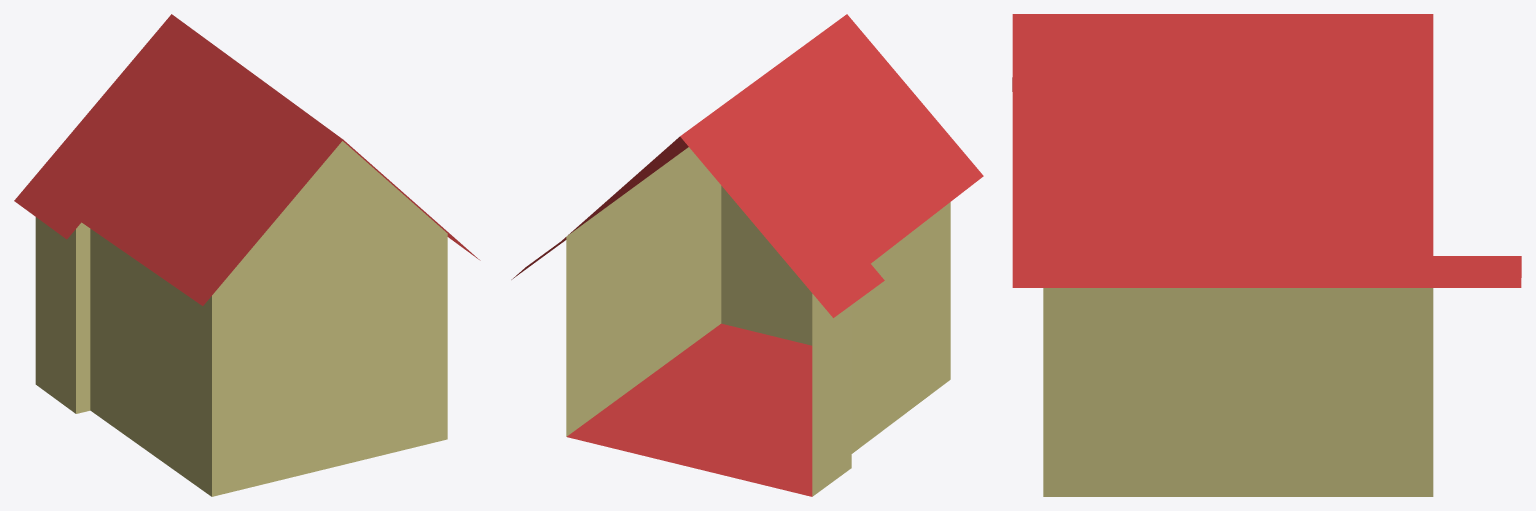
The picture shows the model from 3 angles, left to right: view 1: azimuth 30°, elevation 25°; view 2: azimuth 150°, elevation 25°; view 3: azimuth 270°, elevation 25°; orthographic projection. The views are drawn at different scales.
Bounding box in the file's own units: 13.62 × 16.56 × 14.83.
